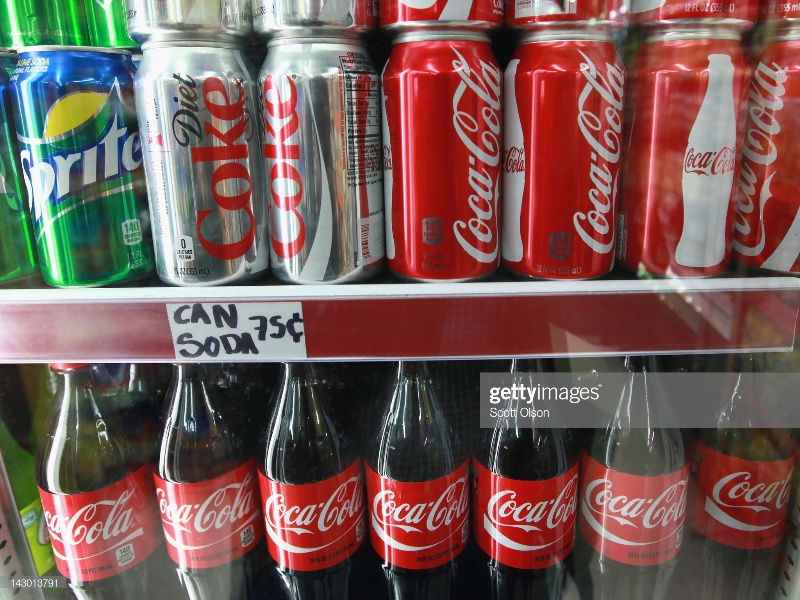coke-bottle-700ml: (36, 363, 168, 599), (471, 363, 583, 600), (254, 361, 365, 599), (587, 361, 695, 598), (365, 363, 471, 599), (701, 350, 800, 598), (169, 361, 254, 597)
coke-can: (504, 27, 631, 280), (378, 34, 508, 280), (631, 27, 733, 280)
coke-can-diet: (135, 45, 265, 288), (259, 37, 386, 284)
